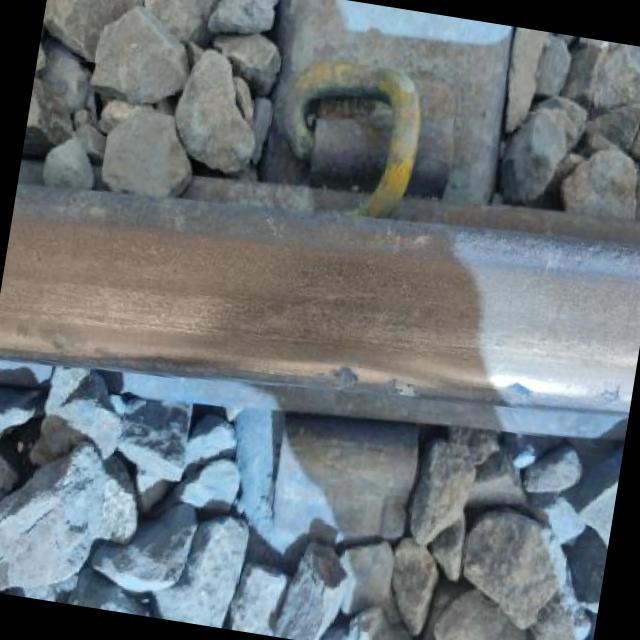defective: (0, 106, 640, 532)
